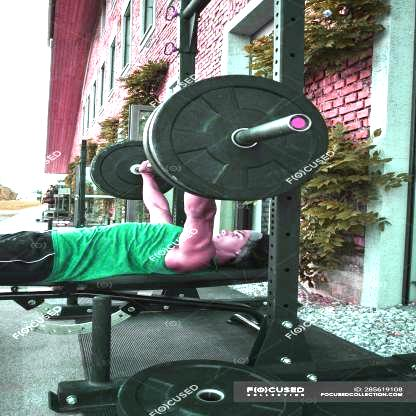Barbell: (283, 105, 315, 137)
